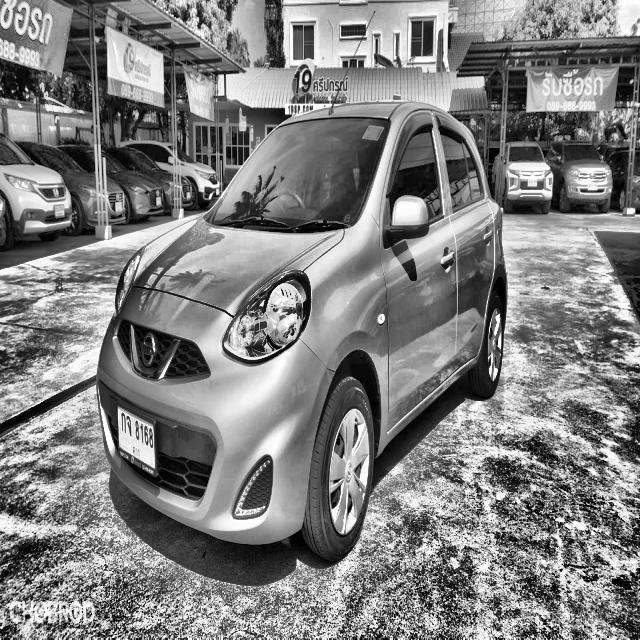license-plate: (118, 399, 158, 483), (53, 202, 68, 220), (527, 177, 537, 190), (115, 200, 124, 213), (588, 181, 598, 192), (157, 194, 161, 206), (216, 188, 221, 197), (186, 191, 191, 199)
